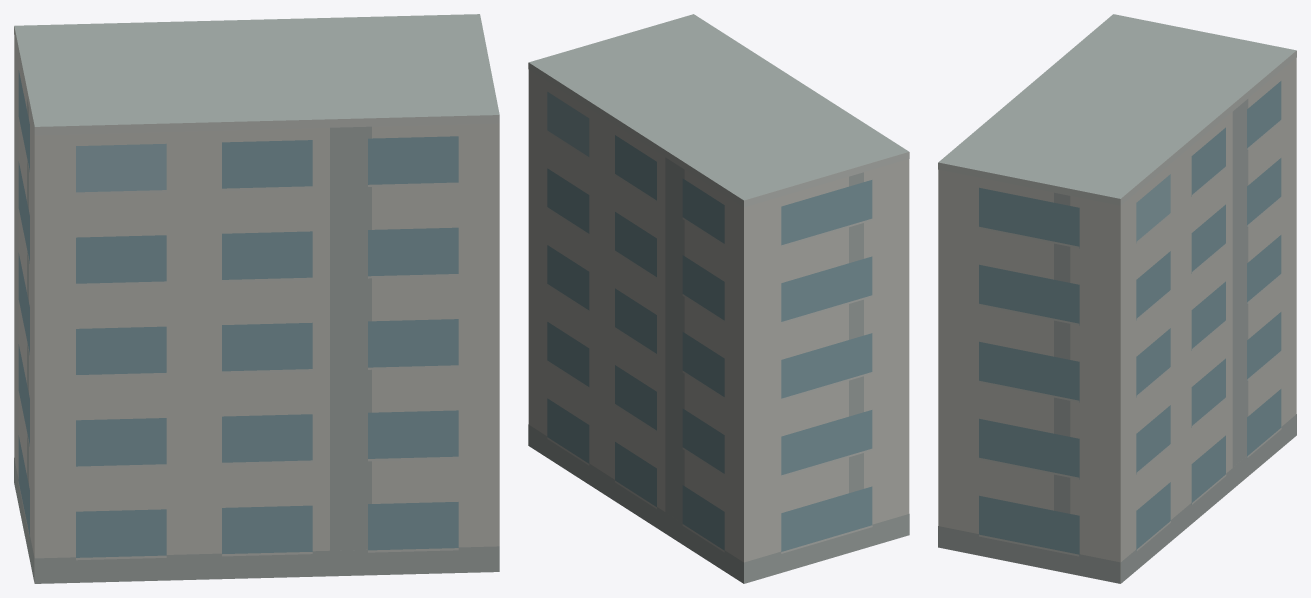
The model's file is survey-upis-32733910.glb.
3 renders of one model, left to right at view 1: azimuth 30°, elevation 25°; view 2: azimuth 150°, elevation 25°; view 3: azimuth 270°, elevation 25°, orthographic. The views are drawn at different scales.
Visible parts, largest first — view 1: survey-upis-32733910.tmp; view 2: survey-upis-32733910.tmp; view 3: survey-upis-32733910.tmp.
Boxes of the visible parts, box(x1,y1,x2,y2) form: survey-upis-32733910.tmp: box(14, 14, 499, 583); survey-upis-32733910.tmp: box(528, 14, 909, 583); survey-upis-32733910.tmp: box(938, 14, 1296, 583).
Bounding box in the file's own units: 13.6 × 13.2 × 11.15.
